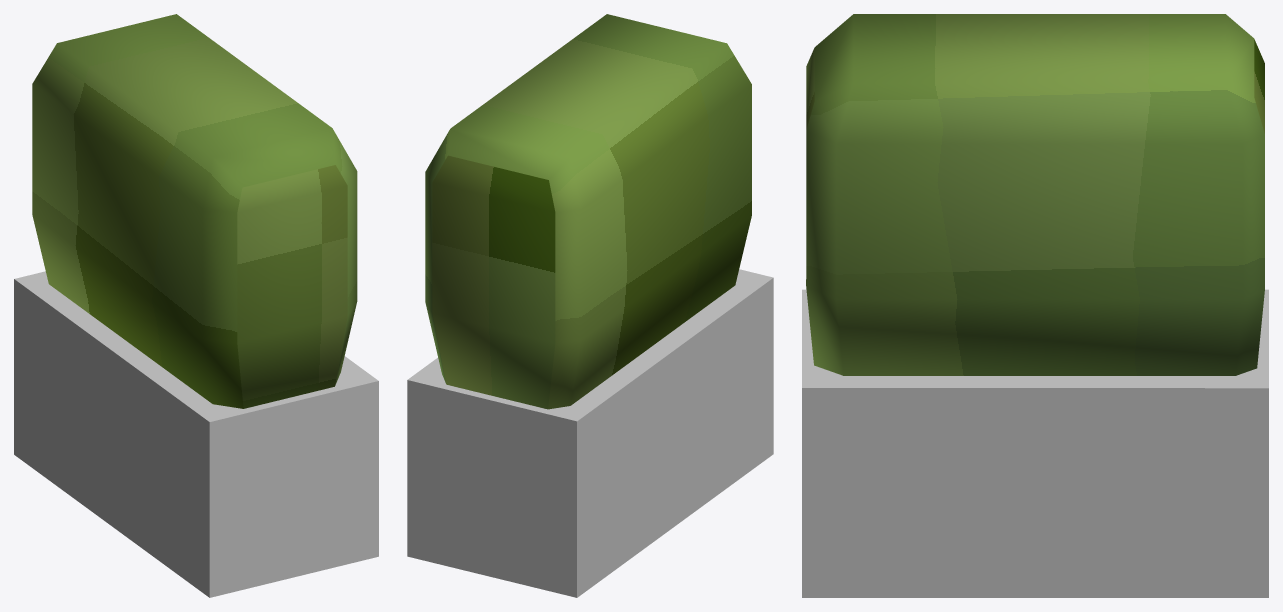
File: JpHouseJ_Hedge02a.fbx
3 renders of one model, left to right at view 1: azimuth 30°, elevation 25°; view 2: azimuth 150°, elevation 25°; view 3: azimuth 270°, elevation 25°, orthographic. The views are drawn at different scales.
Visible parts, largest first — view 1: JpHouseJ_Hedge02a; view 2: JpHouseJ_Hedge02a; view 3: JpHouseJ_Hedge02a.
Part boxes in pixels (box(x1,y1,x2,y2)): JpHouseJ_Hedge02a: box(14, 14, 378, 597); JpHouseJ_Hedge02a: box(407, 14, 773, 597); JpHouseJ_Hedge02a: box(802, 14, 1268, 597).
Size of the model in its own units: 1.09 by 2.59 by 2.19.
